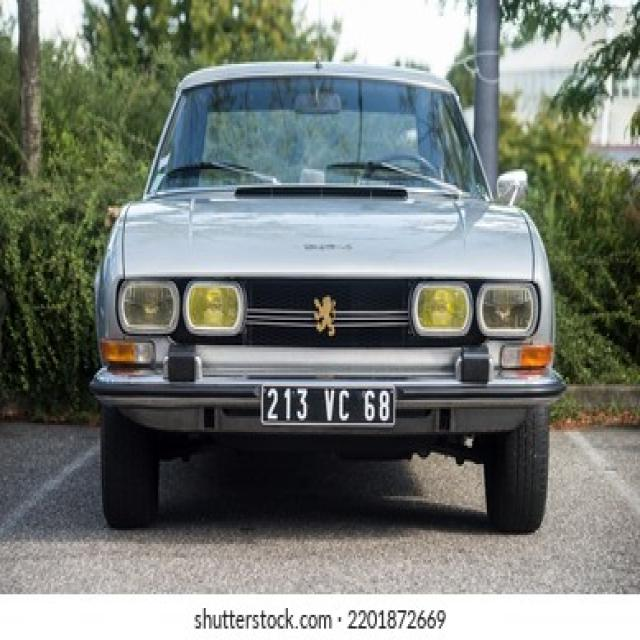pegout: (312, 294, 339, 335)
